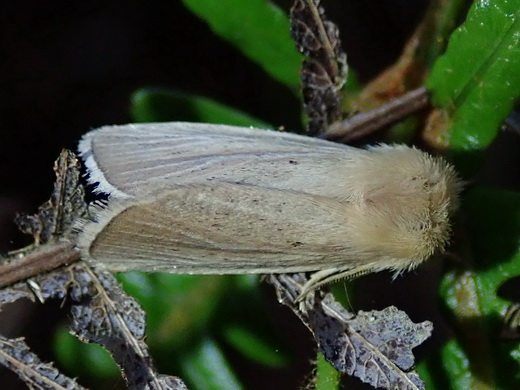Noctuidae: (72, 123, 465, 306)
